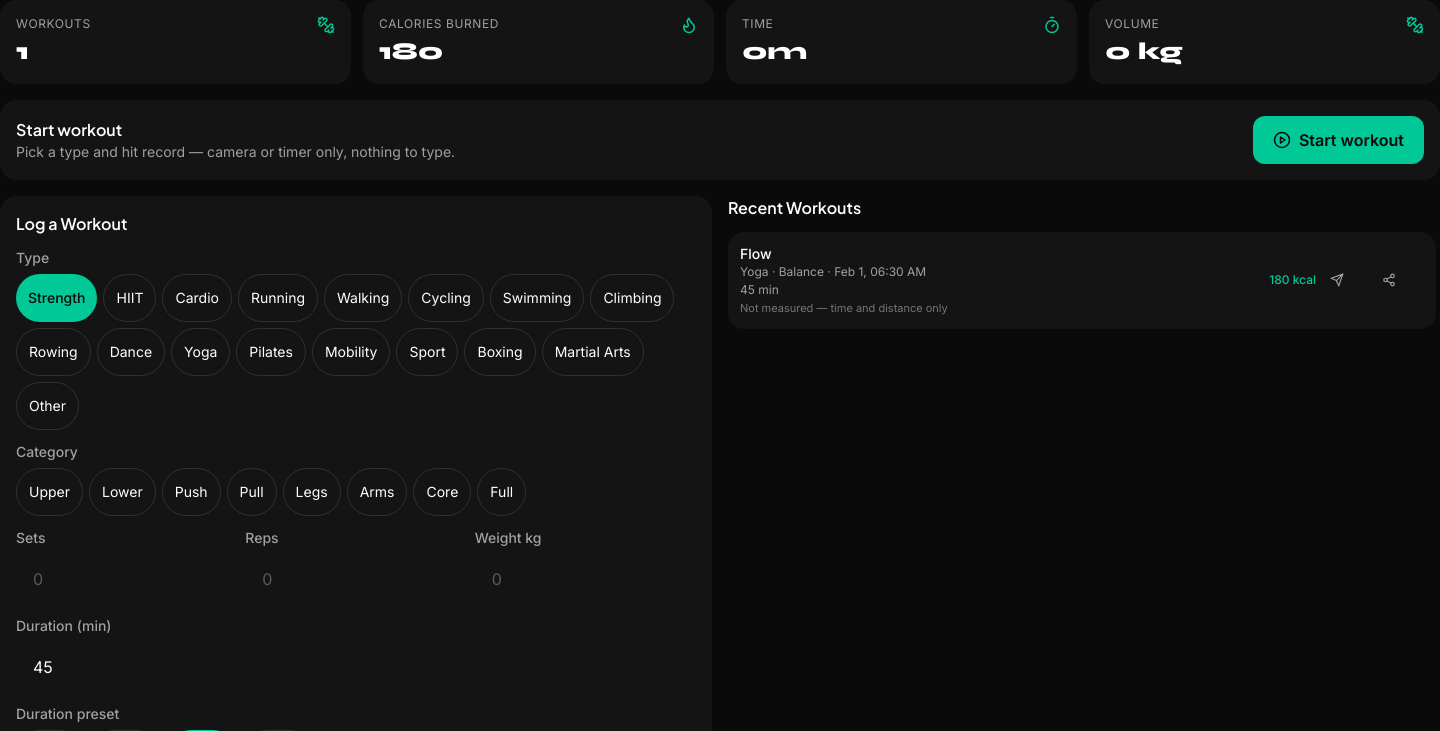
it: WorkoutsTab field visibility › swaps to style + duration for yoga and drops every measured field
This screenshot has width=1440, height=731.
Check: the number field labelled "Sets" is shown, box [16,554,237,604]
Click the button "Yoga" at (201, 352), box [171,328,230,376]
(page scrolled)
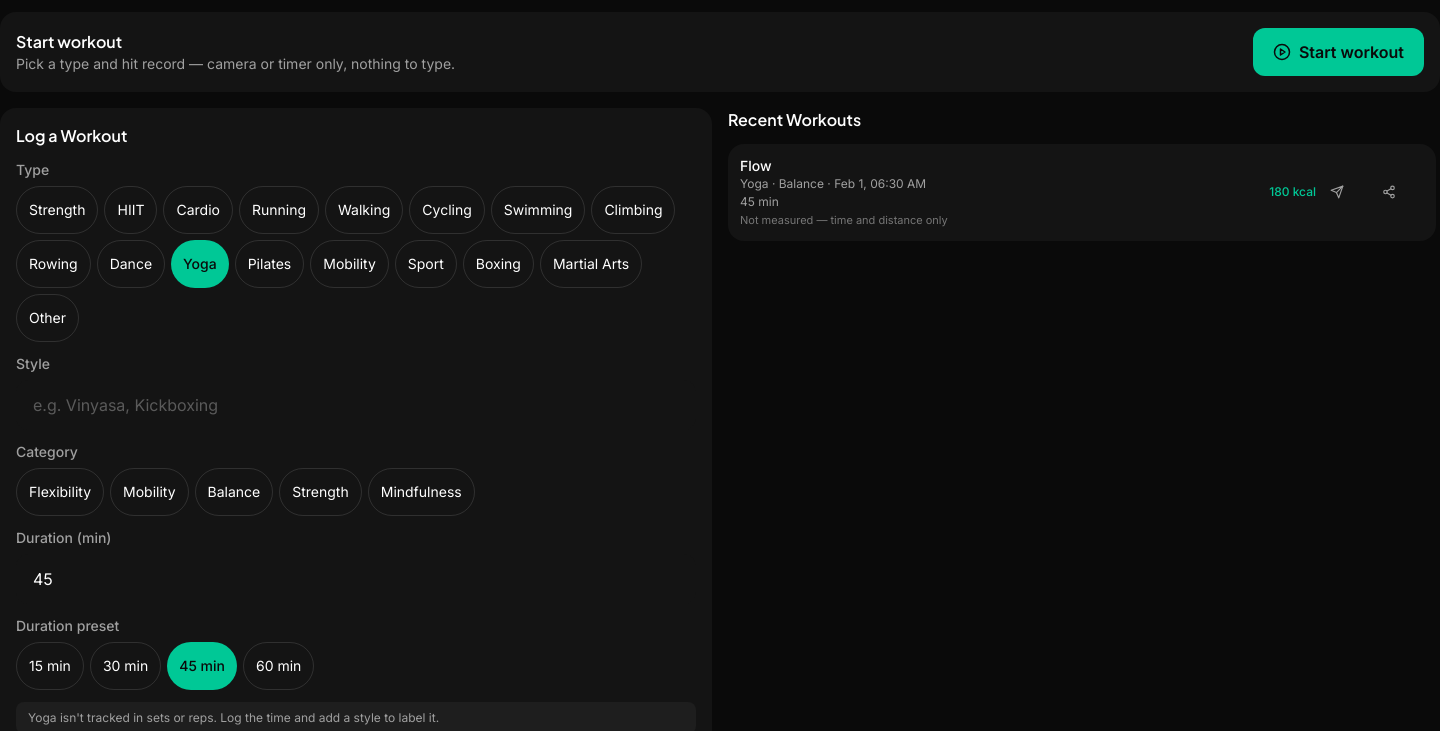
Check: the field labelled "Style" is shown, box [16,380,696,430]
Check: the label labelled "Weight kg" is gone
Check: the button "Flexibility" is shown, box [16,468,104,516]
